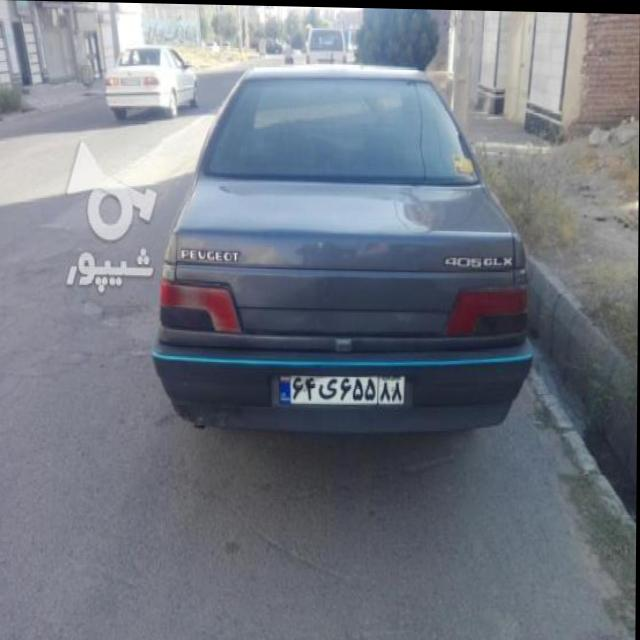licence: (278, 368, 403, 402)
